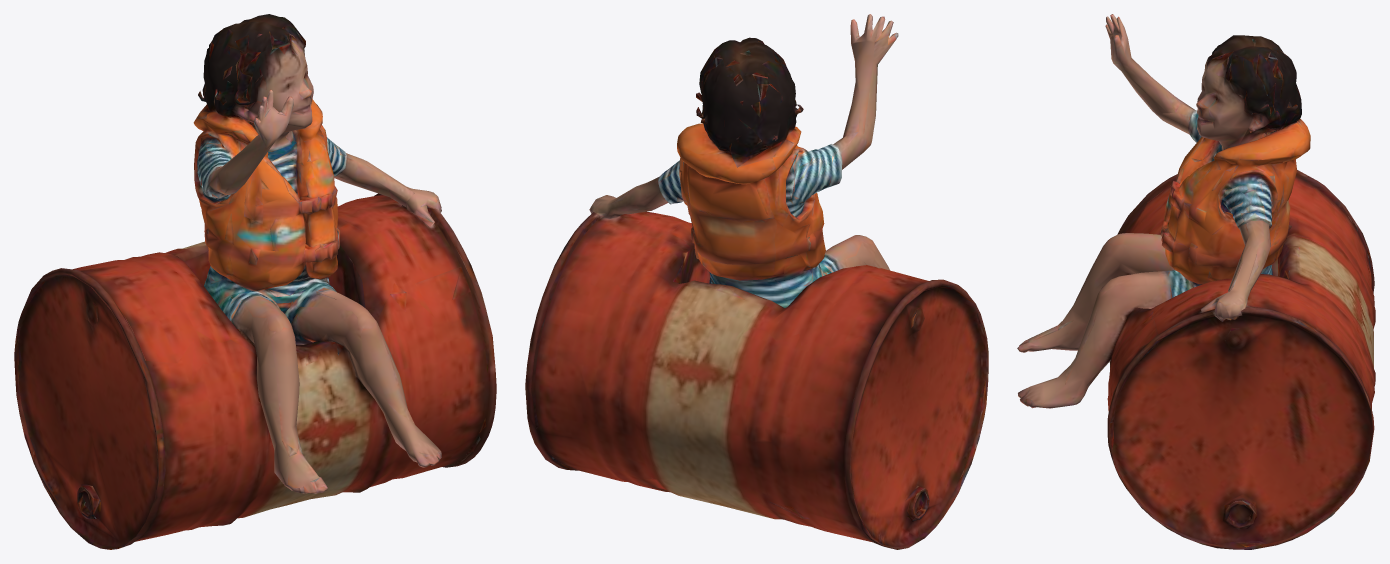
The model's file is rescue-drum.glb.
3 views of the same model, side by side, from view 1: azimuth 30°, elevation 25°; view 2: azimuth 150°, elevation 25°; view 3: azimuth 270°, elevation 25° (orthographic). The views are drawn at different scales.
Visible parts, largest first — view 1: Mesh_0; view 2: Mesh_0; view 3: Mesh_0.
Boxes of the visible parts, x1,y1,x2,y2 form: Mesh_0: [14, 14, 496, 549]; Mesh_0: [525, 14, 988, 549]; Mesh_0: [1017, 14, 1375, 549].
Bounding box in the file's own units: 1.46 × 1.9 × 1.41.
1 material, 1 textured.
